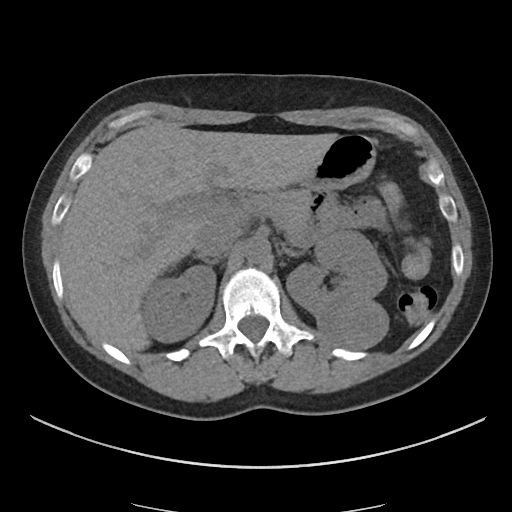Lesion: (308, 293, 392, 362)
